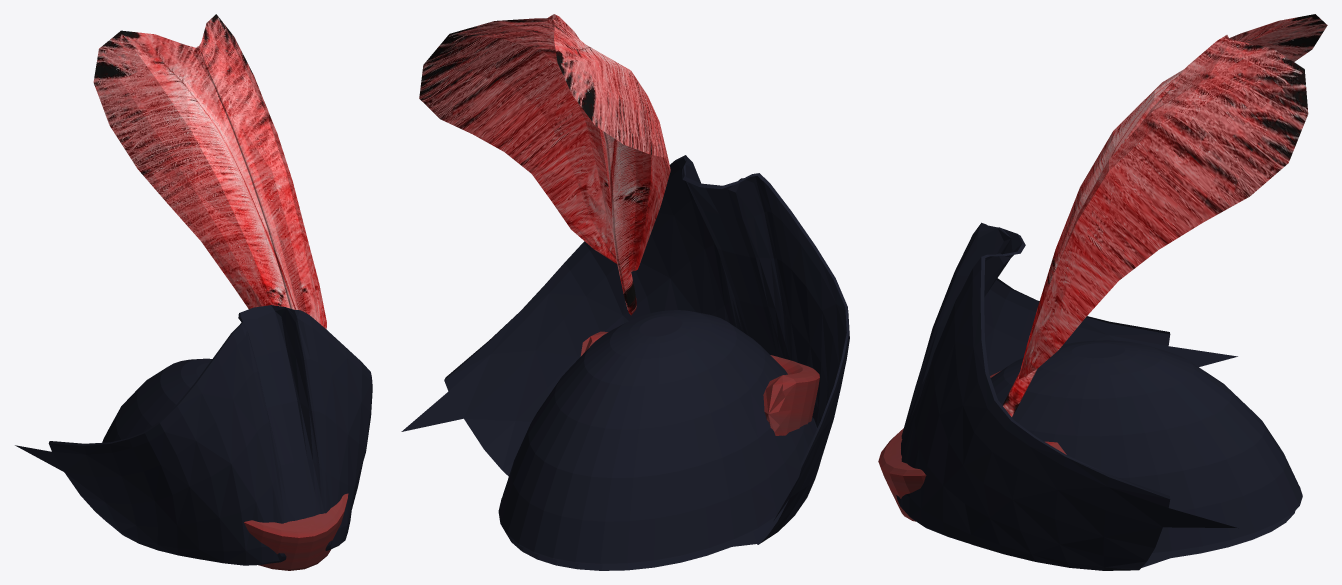
Rendered from piratehat.dae.
The picture shows the model from 3 angles, left to right: view 1: azimuth 30°, elevation 25°; view 2: azimuth 150°, elevation 25°; view 3: azimuth 270°, elevation 25°; orthographic projection. The views are drawn at different scales.
Parts seen in each view (by area): view 1: hat, Feather, Cylinder01; view 2: hat, Feather, Cylinder01; view 3: hat, Feather, Cylinder01.
Part boxes in pixels (<box>): hat: <box>15,305,372,565</box>; Feather: <box>93,14,326,329</box>; Cylinder01: <box>244,493,348,570</box>; hat: <box>401,155,849,570</box>; Feather: <box>419,14,670,315</box>; Cylinder01: <box>580,331,819,435</box>; hat: <box>896,222,1302,570</box>; Feather: <box>1002,14,1327,416</box>; Cylinder01: <box>878,371,1066,521</box>.
Bounding box in the file's own units: 10.73 × 11.87 × 14.61.
3 materials, 2 textured.
